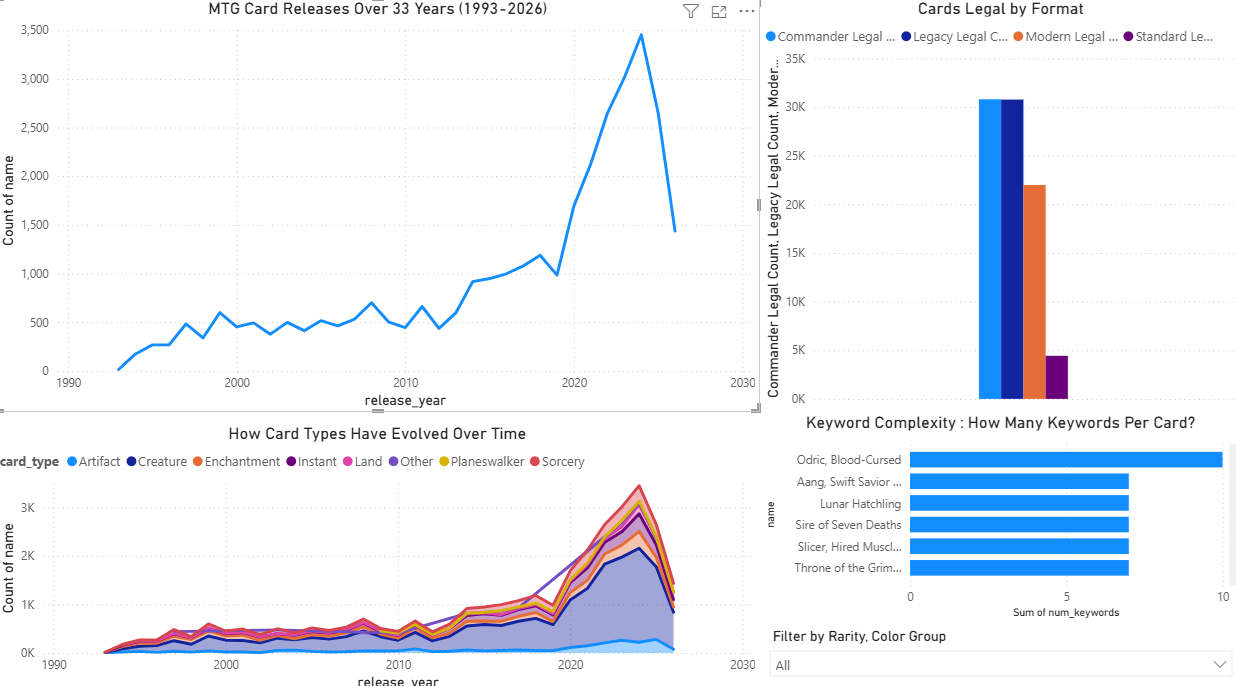

What the dashboard file says about the page in this screenshot:
{"tool":"powerbi","page":{"name":"Set Evolution","canvas":[1280,720],"ordinal":3},"visuals":[{"type":"lineChart","title":"MTG Card Releases Over 33 Years (1993-2026)","fields":{"Category":["mtg_powerbi_ready.release_year"],"Y":["Count(mtg_powerbi_ready.name)"]},"box":[0,3.7,785.2,425.8],"z":0},{"type":"stackedAreaChart","title":"How Card Types Have Evolved Over Time","fields":{"Category":["mtg_powerbi_ready.release_year"],"Y":["Count(mtg_powerbi_ready.name)"],"Series":["mtg_powerbi_ready.card_type"]},"box":[0,440.6,785.2,279.4],"z":1000},{"type":"clusteredColumnChart","title":"Cards Legal by Format","fields":{"Y":["mtg_powerbi_ready.Commander Legal Count","mtg_powerbi_ready.Legacy Legal Count","mtg_powerbi_ready.Modern Legal Count","mtg_powerbi_ready.Standard Legal Count"]},"box":[785.2,3.7,494.8,425.8],"z":2000},{"type":"clusteredBarChart","title":"Keyword Complexity : How Many Keywords Per Card?","fields":{"Y":["Sum(mtg_powerbi_ready.num_keywords)"],"Category":["mtg_powerbi_ready.name"]},"box":[785.2,429.5,494.8,216.6],"z":3000},{"type":"slicer","fields":{"Values":["mtg_powerbi_ready.color_group","mtg_powerbi_ready.rarity"]},"box":[785.2,646.2,494.8,73.8],"z":4000},{"type":"actionButton","box":[0,0,100,40],"z":5000}]}

Visuals, with their boxes in screenshot pixels (x1, y1, x2, y2), scaled from the page's 1280x720 canvas onto the 1236x686 screenshot:
"MTG Card Releases Over 33 Years (1993-2026)" lineChart: Rect(0, 4, 758, 409)
"How Card Types Have Evolved Over Time" stackedAreaChart: Rect(0, 420, 758, 685)
"Cards Legal by Format" clusteredColumnChart: Rect(758, 4, 1235, 409)
"Keyword Complexity : How Many Keywords Per Card?" clusteredBarChart: Rect(758, 409, 1235, 616)
slicer - mtg_powerbi_ready.color_group x mtg_powerbi_ready.rarity: Rect(758, 616, 1235, 685)
actionButton: Rect(0, 0, 97, 38)
